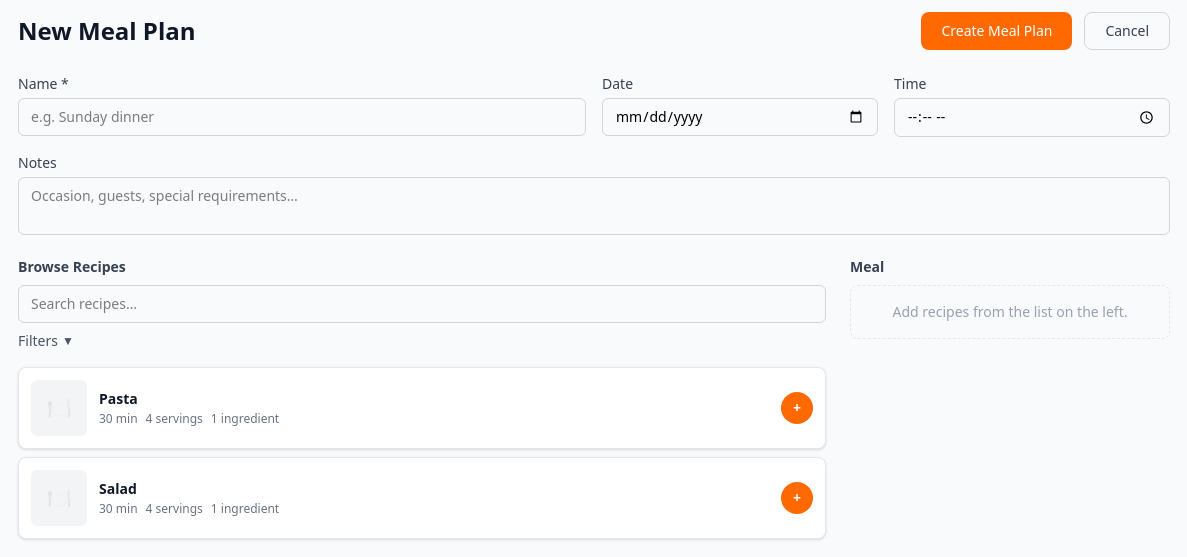
Test: MealPlanFormPage (characterization) › dietary filter narrows the candidate list (non-matching recipe hidden)
Check: the heading "Pasta" is shown, box top-left (99, 389), bottom-right (138, 408)
// Drive the search box (a filter input) to trigger a refetch with narrowed params.
Type "salad" into the field with placeholder "Search recipes…" at (422, 304), box top-left (18, 285), bottom-right (826, 323)
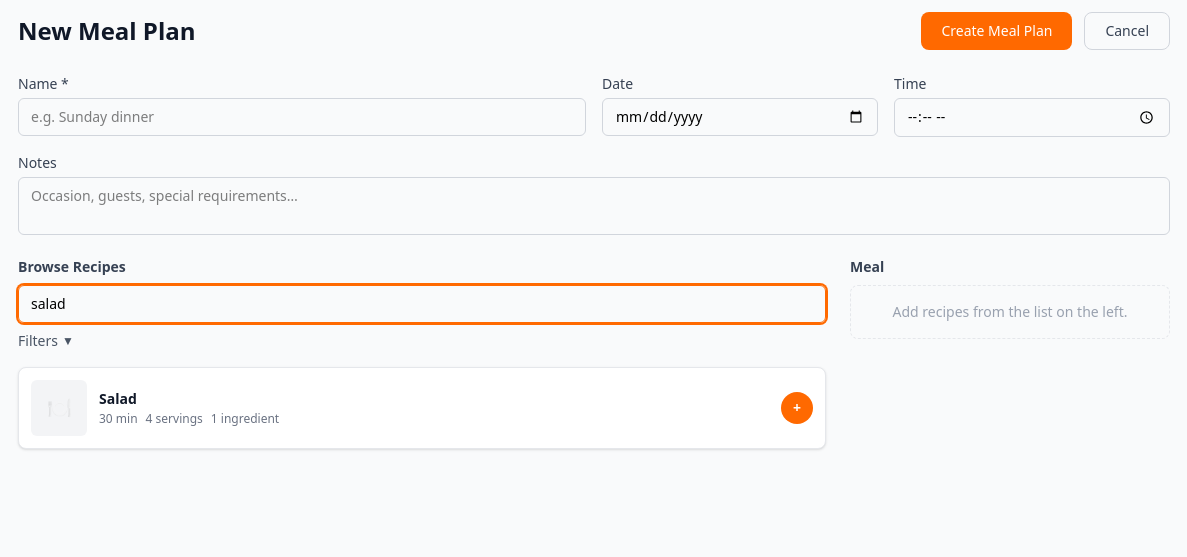
Check: the heading "Salad" is shown, box top-left (99, 389), bottom-right (137, 408)
Check: the button "Pasta" is gone
